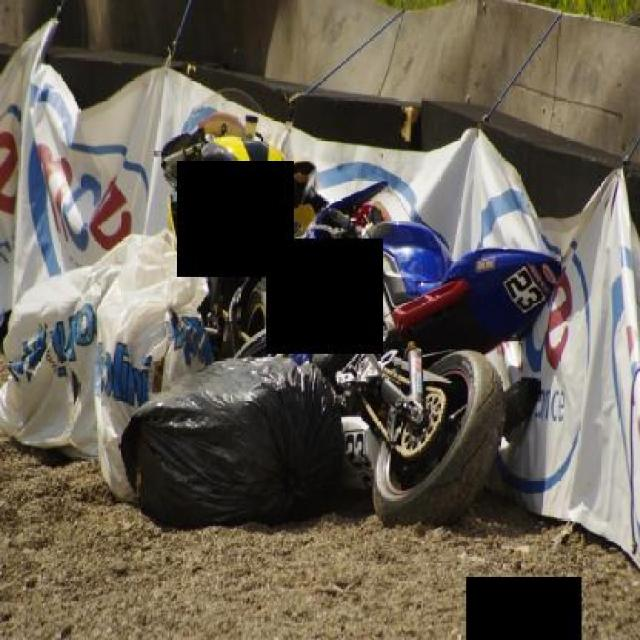plastic bag: (117, 357, 349, 531), (0, 229, 154, 462), (95, 225, 211, 503)
